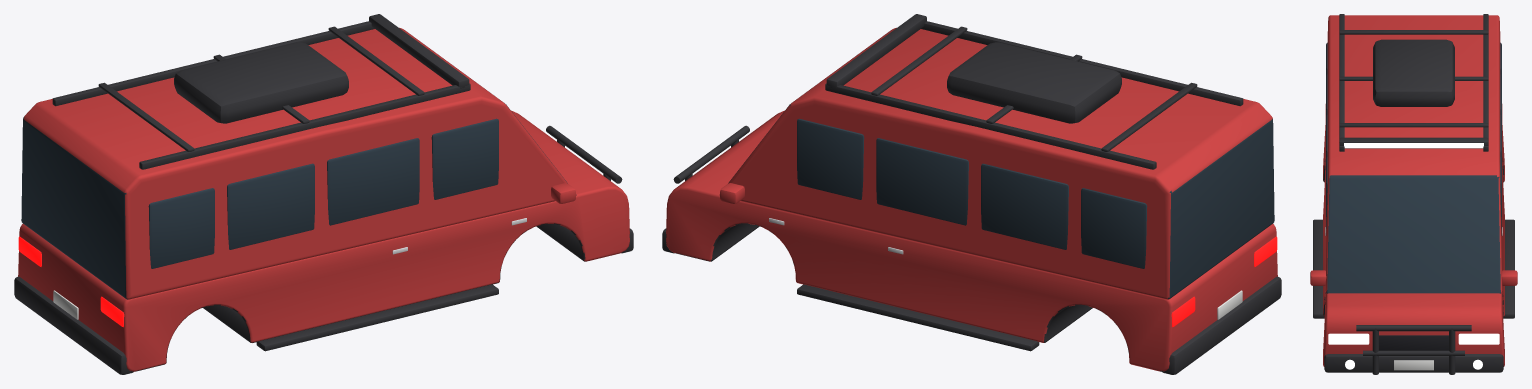
File: van_passageiros.glb
3 renders of one model, left to right at view 1: azimuth 30°, elevation 25°; view 2: azimuth 150°, elevation 25°; view 3: azimuth 270°, elevation 25°, orthographic. The views are drawn at different scales.
Parts seen in each view (by area): view 1: cabine, carroceria, bagageiro, janela1, janela2, janela0, janela3, rack_trilho, estribo, parachoque_t, rack_trilho.001, led_suporte (+3 smaller); view 2: cabine, carroceria, bagageiro, janela1, janela2, janela0, janela3, rack_trilho.001, estribo.001, parachoque_t, rack_trilho, led_suporte (+3 smaller); view 3: cabine, carroceria, bagageiro, parachoque_d, grade, led_suporte, estribo, estribo.001, led_luz, qm_barra, rack_barra, rack_barra.002 (+12 smaller).
Part boxes in pixels (x1,y1,x2,y2): cabine: [21, 27, 576, 299]; carroceria: [18, 110, 629, 371]; bagageiro: [174, 42, 348, 123]; janela1: [327, 138, 419, 225]; janela2: [227, 163, 314, 249]; janela0: [431, 118, 498, 199]; janela3: [148, 188, 214, 268]; rack_trilho: [139, 83, 470, 169]; estribo: [256, 284, 498, 351]; parachoque_t: [14, 276, 133, 374]; rack_trilho.001: [52, 21, 374, 106]; led_suporte: [369, 14, 469, 88]; cabine: [719, 27, 1274, 299]; carroceria: [666, 110, 1277, 371]; bagageiro: [947, 42, 1121, 123]; janela1: [876, 138, 968, 225]; janela2: [981, 163, 1068, 249]; janela0: [797, 118, 864, 199]; janela3: [1081, 188, 1147, 268]; rack_trilho.001: [825, 83, 1156, 169]; estribo.001: [797, 284, 1039, 351]; parachoque_t: [1162, 276, 1281, 374]; rack_trilho: [921, 21, 1243, 106]; led_suporte: [826, 14, 926, 88]; cabine: [1325, 15, 1502, 293]; carroceria: [1323, 125, 1504, 366]; bagageiro: [1373, 39, 1454, 106]; parachoque_d: [1324, 354, 1503, 372]; grade: [1379, 335, 1448, 350]; led_suporte: [1339, 137, 1488, 148]; estribo: [1313, 219, 1324, 318]; estribo.001: [1503, 219, 1514, 318]; led_luz: [1344, 143, 1483, 148]; qm_barra: [1356, 325, 1471, 331]; rack_barra: [1339, 30, 1488, 34]; rack_barra.002: [1339, 123, 1488, 127].
Size of the model in its own units: 5.48 by 2.23 by 2.28.
